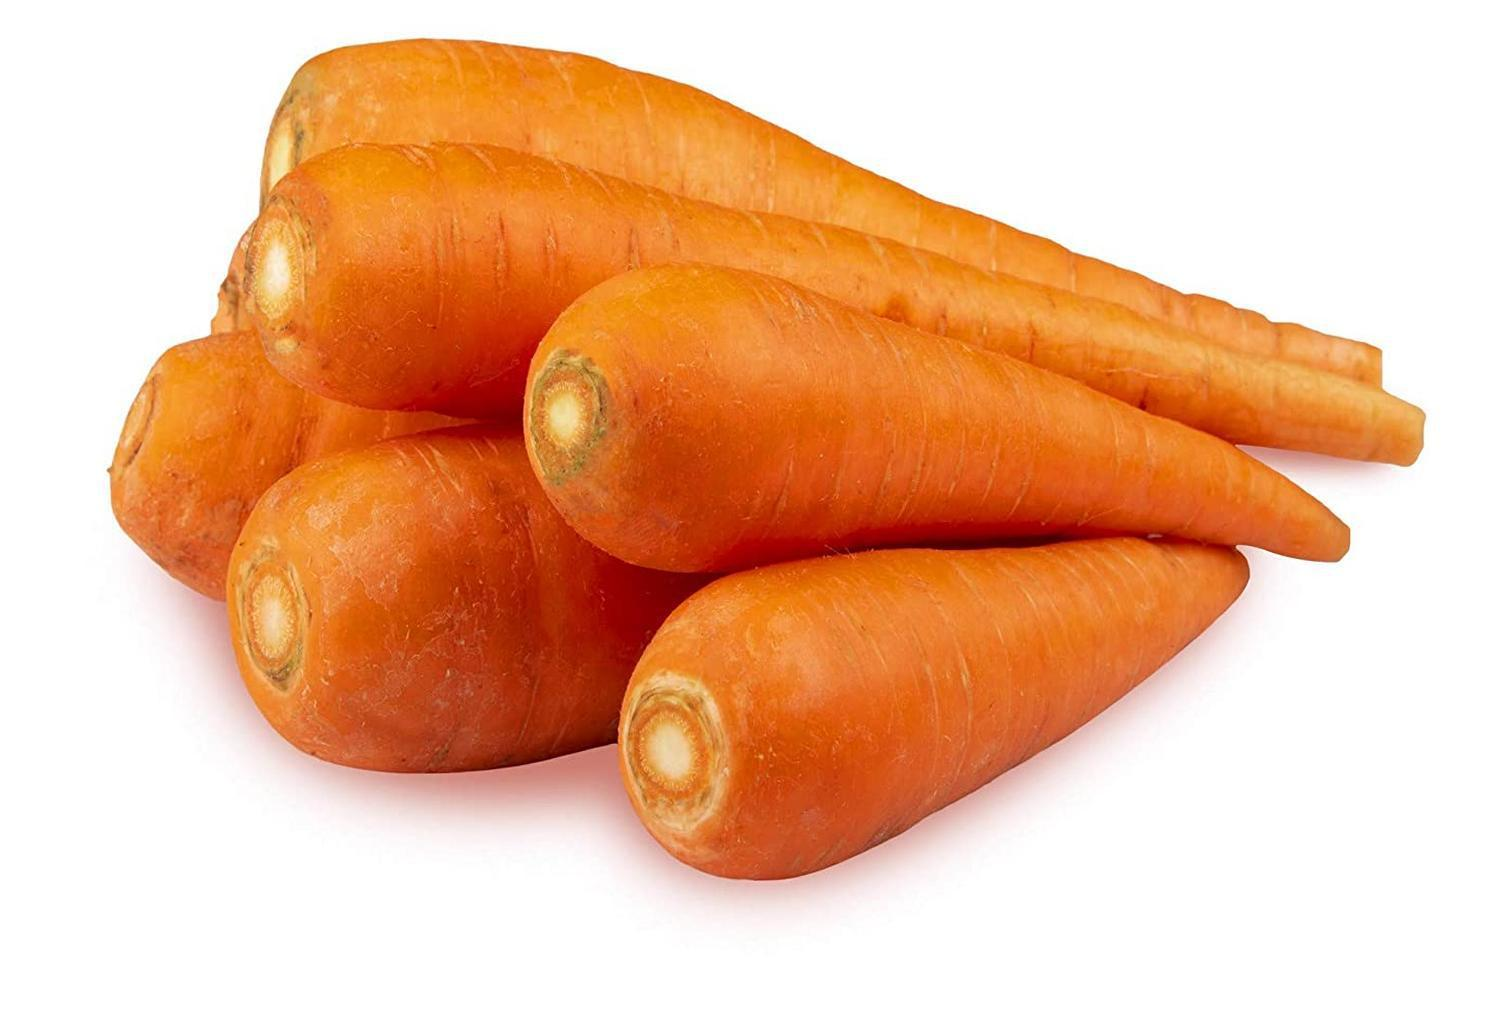carrot: (114, 59, 1435, 907), (286, 30, 1360, 620), (511, 267, 1342, 578), (124, 293, 658, 742), (624, 527, 1256, 873)
